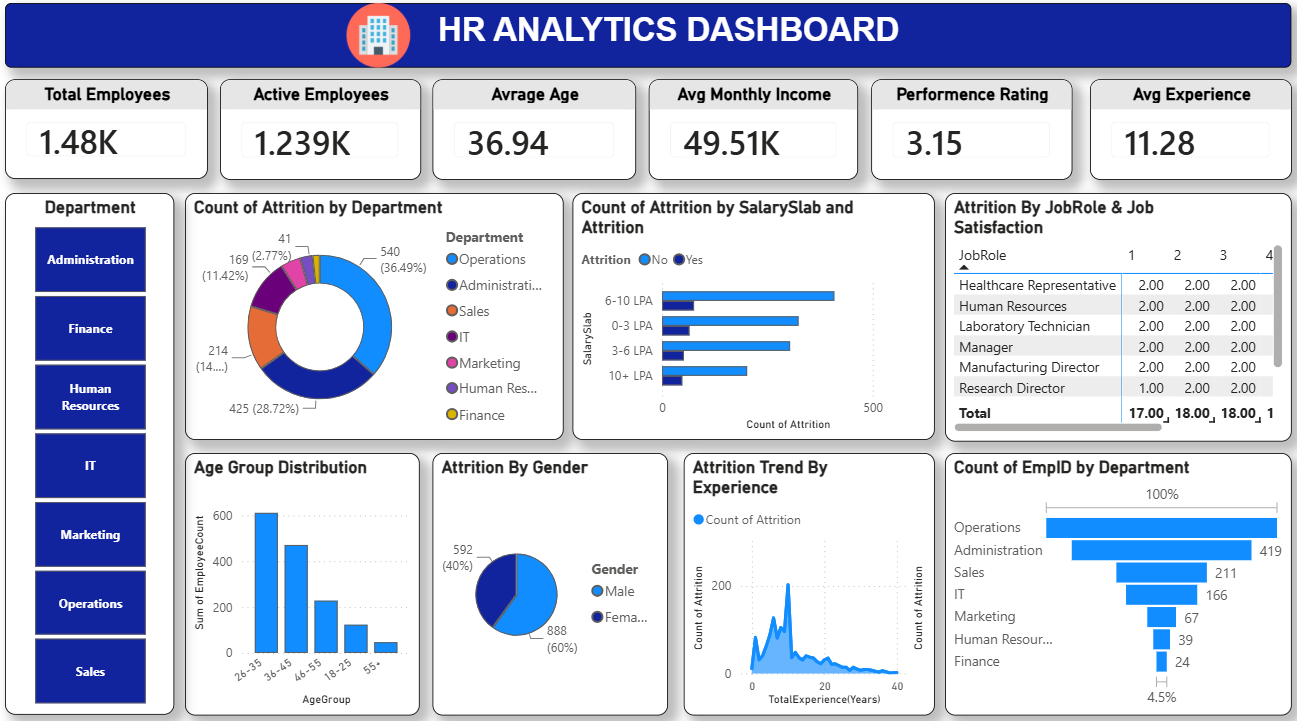

The dashboard page shown, as its layout file describes it:
{"tool":"powerbi","page":{"name":"Page 1","canvas":[1280,720],"ordinal":0},"visuals":[{"type":"textbox","box":[9.4,9.4,1258.7,63.3],"z":0},{"type":"cardVisual","title":"Total Employees","fields":{"Data":["CountNonNull(HR_Analytics-4 (1).EmployeeCount)"]},"box":[9.9,84,198.8,97.5],"z":1000},{"type":"cardVisual","title":"Active Employees","fields":{"Data":["CountNonNull(HR_Analytics-4 (1).EmployeeCount)"]},"box":[219.6,83.8,196.5,98.3],"z":2000},{"type":"cardVisual","title":"Avrage Age","fields":{"Data":["Avg(HR_Analytics-4 (1).Age)"]},"box":[427.7,83.8,199.4,98.3],"z":3000},{"type":"cardVisual","title":"Avg Monthly Income","fields":{"Data":["Avg(HR_Analytics-4 (1).MonthlyIncome)"]},"box":[640.1,83.8,205.2,98.3],"z":4000},{"type":"cardVisual","title":"Performence Rating","fields":{"Data":["Avg(HR_Analytics-4 (1).PerformanceRating)"]},"box":[856.9,83.8,196.5,98.3],"z":5000},{"type":"cardVisual","title":"Avg Experience","fields":{"Data":["Avg(HR_Analytics-4 (1).TotalExperience(Years))"]},"box":[1070.8,83.8,198,98.3],"z":6000},{"type":"donutChart","fields":{"Y":["CountNonNull(HR_Analytics-4 (1).Attrition)"],"Category":["HR_Analytics-4 (1).Department"]},"box":[186.3,196.1,370.1,241.8],"z":7000},{"type":"clusteredBarChart","fields":{"Category":["HR_Analytics-4 (1).SalarySlab"],"Y":["CountNonNull(HR_Analytics-4 (1).Attrition)"],"Series":["HR_Analytics-4 (1).Attrition"]},"box":[565,196.1,354,241.8],"z":8000},{"type":"pivotTable","title":"Attrition By JobRole & Job Satisfaction","fields":{"Rows":["HR_Analytics-4 (1).JobRole"],"Values":["select","Count(HR_Analytics-4 (1).Attrition)"],"Columns":["HR_Analytics-4 (1).JobSatisfaction"]},"box":[928.9,196.1,339.2,243],"z":9000},{"type":"columnChart","title":"Age Group Distribution","fields":{"Category":["HR_Analytics-4 (1).AgeGroup"],"Y":["Sum(HR_Analytics-4 (1).EmployeeCount)"]},"box":[186.3,450.3,229.5,256.6],"z":10000},{"type":"pieChart","title":"Attrition By Gender","fields":{"Y":["CountNonNull(HR_Analytics-4 (1).Attrition)"],"Category":["HR_Analytics-4 (1).Gender"]},"box":[428.1,450.3,230.7,256.6],"z":10001},{"type":"areaChart","title":"Attrition Trend By Experience","fields":{"Category":["HR_Analytics-4 (1).TotalExperience(Years)"],"Y":["CountNonNull(HR_Analytics-4 (1).Attrition)"],"Y2":["CountNonNull(HR_Analytics-4 (1).Attrition)"]},"box":[673.6,450.3,245.5,256.6],"z":10002},{"type":"slicer","title":"Department","fields":{"Values":["HR_Analytics-4 (1).Department"]},"box":[9.9,196.1,165.3,510.7],"z":10003},{"type":"funnel","fields":{"Category":["HR_Analytics-4 (1).Department"],"Y":["Count(HR_Analytics-4 (1).EmpID)"]},"box":[929,450,339,257],"z":10004},{"type":"image","box":[335.5,9.9,80.2,62.9],"z":10005}]}

Visuals, with their boxes in screenshot pixels (x1, y1, x2, y2), scaled from the page's 1280x720 canvas onto the 1297x721 screenshot:
textbox: (left=10, top=9, right=1285, bottom=73)
"Total Employees" cardVisual: (left=10, top=84, right=211, bottom=182)
"Active Employees" cardVisual: (left=223, top=84, right=422, bottom=182)
"Avrage Age" cardVisual: (left=433, top=84, right=635, bottom=182)
"Avg Monthly Income" cardVisual: (left=649, top=84, right=857, bottom=182)
"Performence Rating" cardVisual: (left=868, top=84, right=1067, bottom=182)
"Avg Experience" cardVisual: (left=1085, top=84, right=1286, bottom=182)
donutChart - CountNonNull(HR_Analytics-4 (1).Attrition) x HR_Analytics-4 (1).Department: (left=189, top=196, right=564, bottom=439)
clusteredBarChart - HR_Analytics-4 (1).SalarySlab x CountNonNull(HR_Analytics-4 (1).Attrition): (left=573, top=196, right=931, bottom=439)
"Attrition By JobRole & Job Satisfaction" pivotTable: (left=941, top=196, right=1285, bottom=440)
"Age Group Distribution" columnChart: (left=189, top=451, right=421, bottom=708)
"Attrition By Gender" pieChart: (left=434, top=451, right=668, bottom=708)
"Attrition Trend By Experience" areaChart: (left=683, top=451, right=931, bottom=708)
"Department" slicer: (left=10, top=196, right=178, bottom=708)
funnel - HR_Analytics-4 (1).Department x Count(HR_Analytics-4 (1).EmpID): (left=941, top=451, right=1285, bottom=708)
image: (left=340, top=10, right=421, bottom=73)
